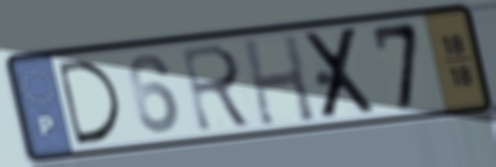6: (126, 52, 185, 136)
7: (369, 20, 422, 114)
D: (53, 56, 125, 148)
H: (238, 31, 320, 129)
R: (178, 41, 258, 136)
X: (301, 23, 382, 123)
